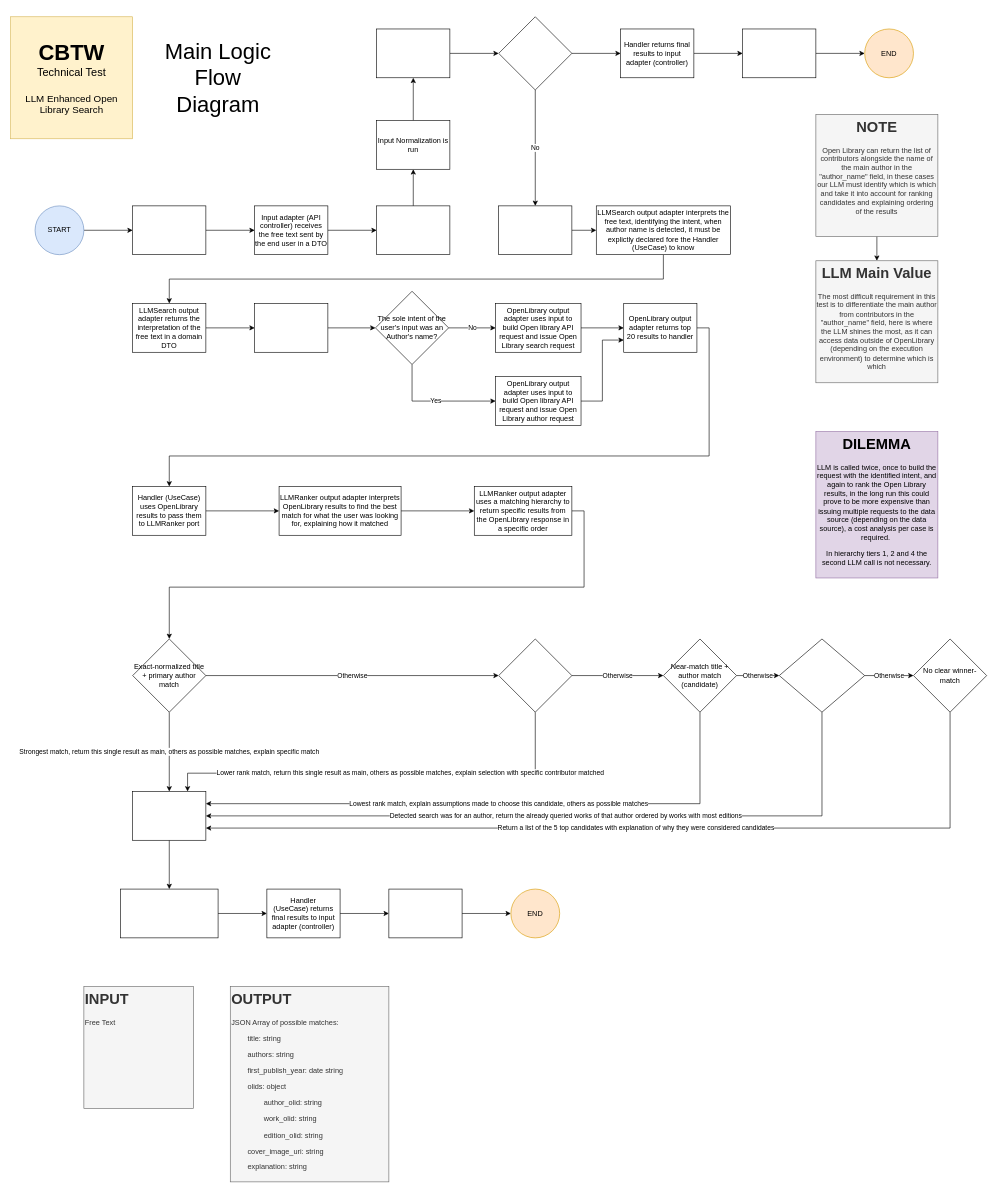
This 997x1194 diagram has some shape labels left out. The shapes that lost their labels are listed below. From the top down, each one's centre as x and y in pixels, then its label:
At [413,53]: "Cache behavior is run".
At [535,53]: "Is normalized input result cached?".
At [779,53]: "Input adapter returns results to end user".
At [169,230]: "End user issues a search request in the form of free text".
At [413,230]: "UseCase (ISender) CQRS pattern sends the request to the appropriate handler".
At [535,230]: "Handler (UseCase) calls LLMSearch output port to process the free text".
At [291,327]: "Handler (UseCase) uses LLMSearch result as input for OpenLibrary output port".
At [535,675]: "Exact-normalized title + contributor-only author match".
At [822,675]: "Author-only fallback (author endpoint already used)".
At [169,815]: "Handler (UseCase) uses LLMRanker port results to build the final response".
At [169,913]: "Handler (UseCase) gets the images URIs to place in the final result".
At [425,913]: "Input adapter (Controller) returns results to end user".
